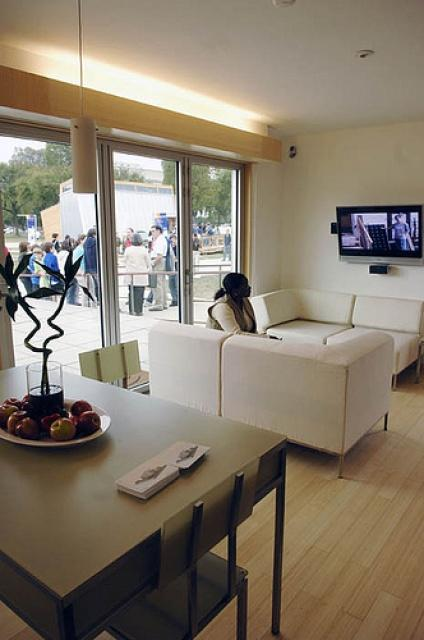AIO PC-Monitor-TV: (335, 203, 423, 266)
